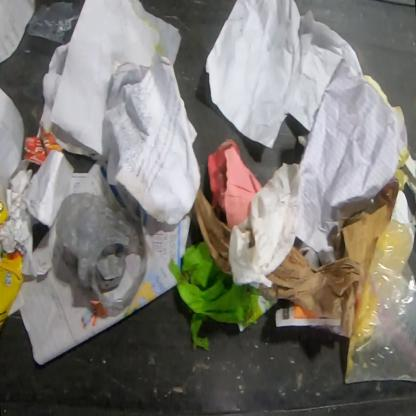cardboard: (337, 181, 399, 265), (0, 248, 25, 331), (21, 126, 65, 167), (0, 199, 9, 227)
soft_plastic: (343, 216, 416, 385), (51, 191, 148, 318), (26, 0, 85, 45), (364, 194, 380, 213)
